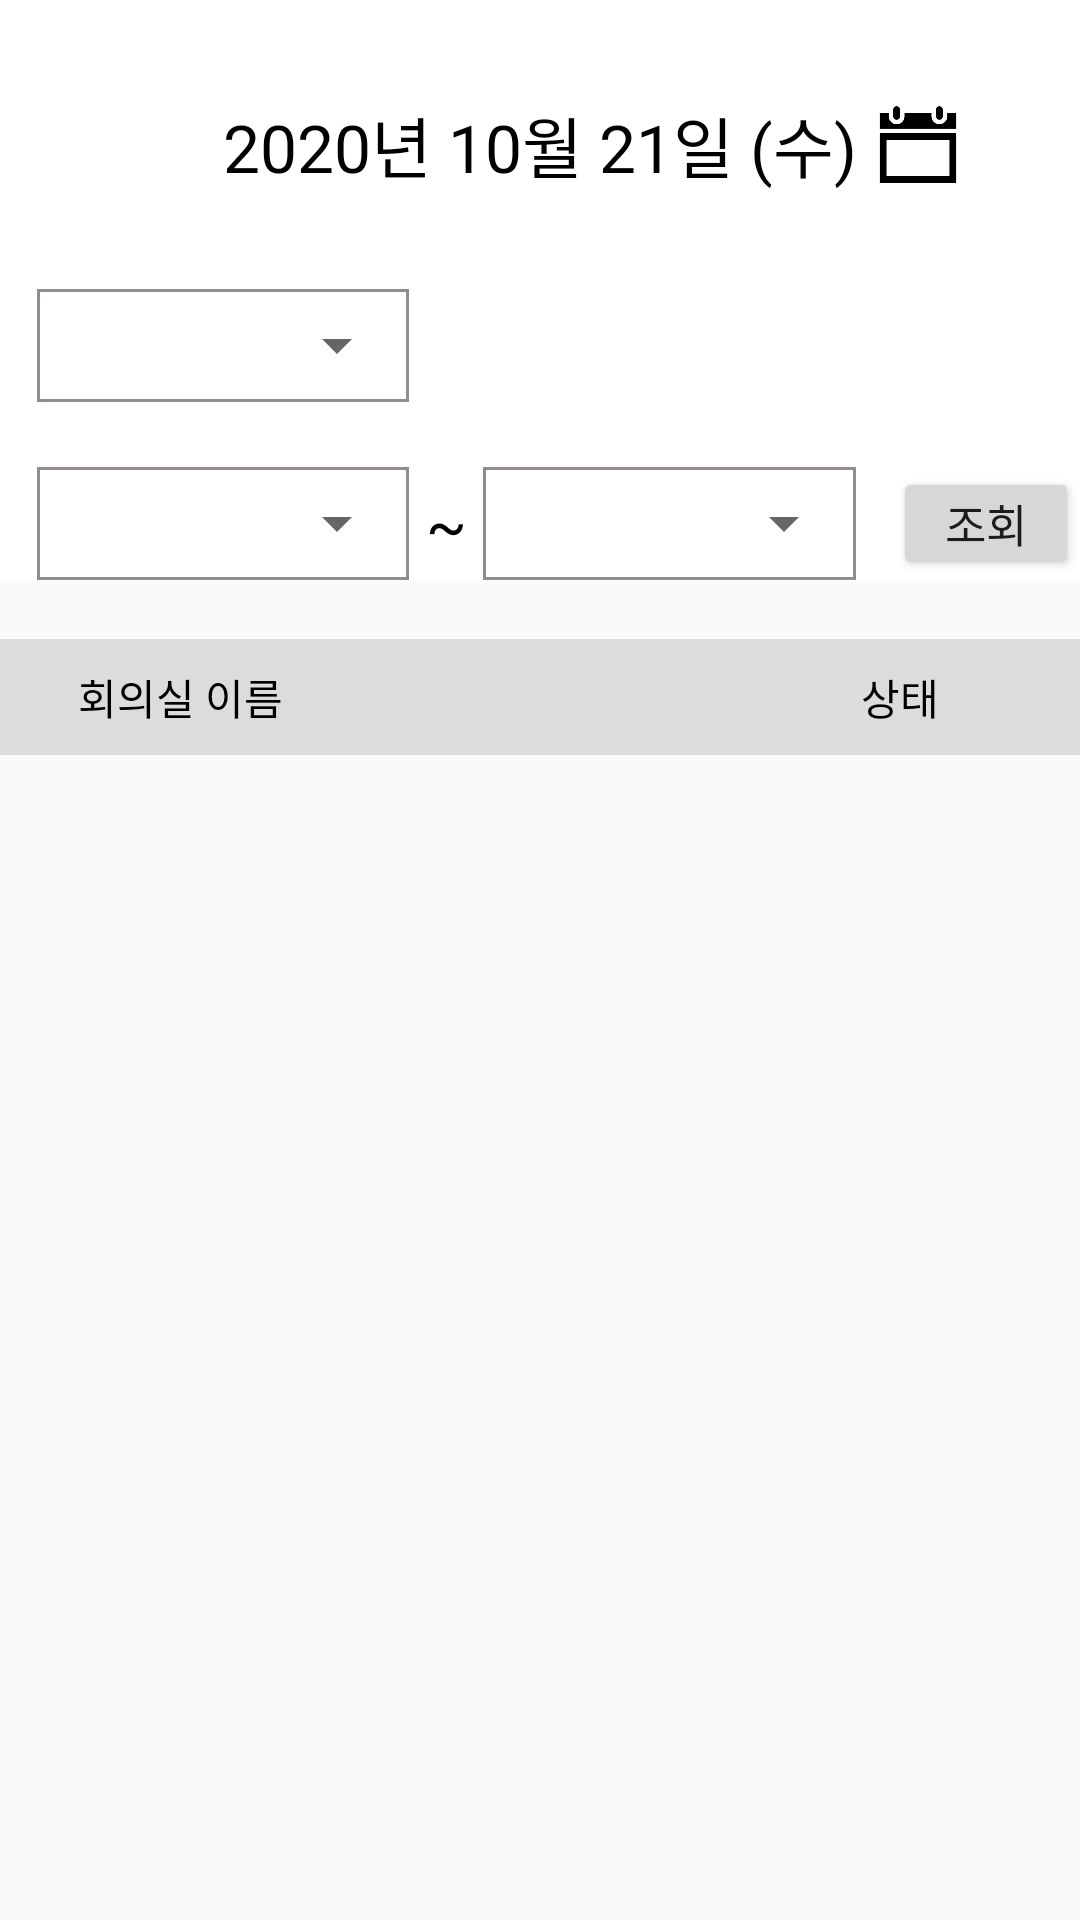

Icon bounding boxes for this 1080px x 1920px phone screenshot, format (left=x1, top=y1, right=x2, bottom=y2):
calendar: (left=880, top=106, right=956, bottom=183)
